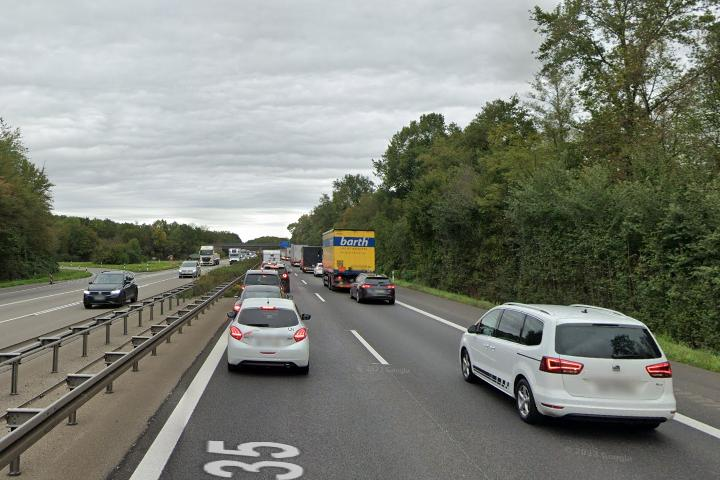vehicle: (455, 292, 683, 436), (221, 296, 316, 379), (320, 228, 378, 289), (81, 269, 139, 311), (347, 269, 396, 308), (176, 257, 202, 278), (197, 244, 220, 266), (228, 246, 243, 265)
